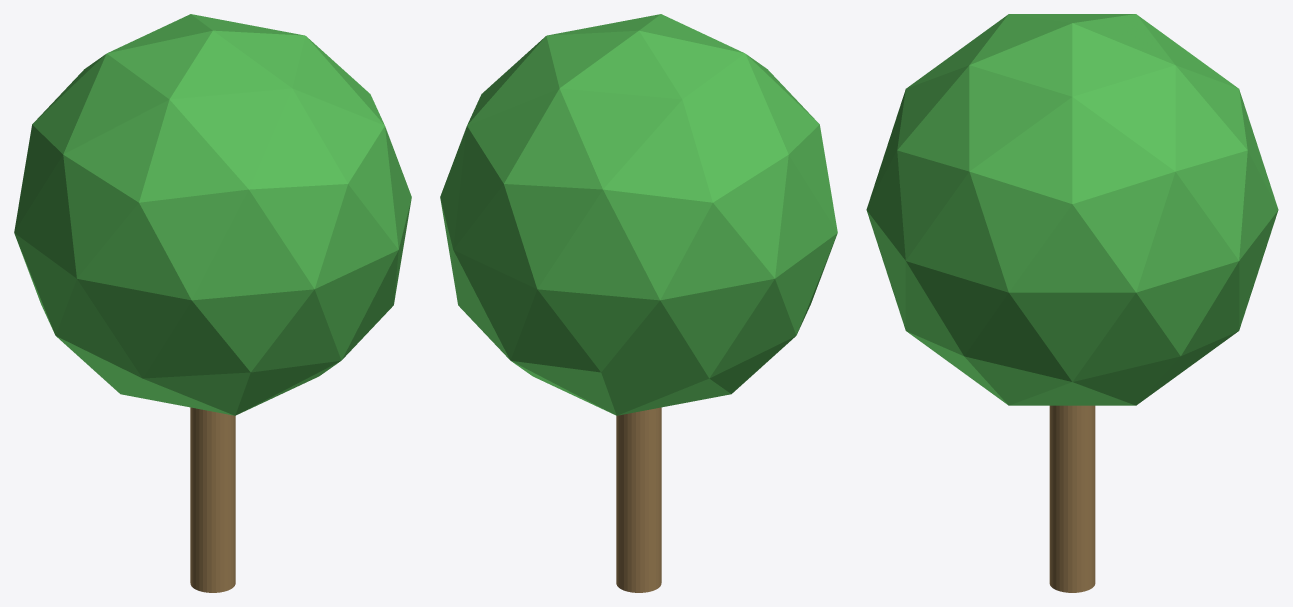
Rendered from tree_willow.glb.
3 views of the same model, side by side, from view 1: azimuth 30°, elevation 25°; view 2: azimuth 150°, elevation 25°; view 3: azimuth 270°, elevation 25° (orthographic).
Parts seen in each view (by area): view 1: tree_willow; view 2: tree_willow; view 3: tree_willow.
Part boxes in pixels (<box>): tree_willow: <box>14,14,411,592</box>; tree_willow: <box>440,14,837,592</box>; tree_willow: <box>866,14,1278,592</box>.
Size of the model in its own units: 1.71 by 2.7 by 1.8.
